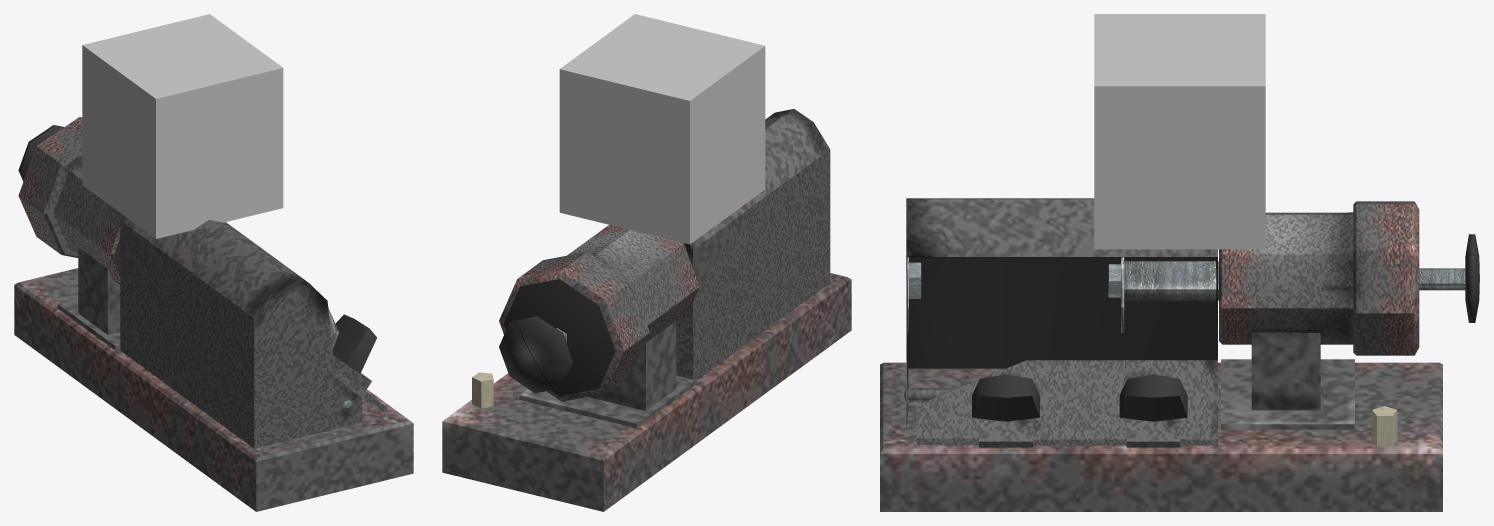
File: machines_keymachine.dae
3 views of the same model, side by side, from view 1: azimuth 30°, elevation 25°; view 2: azimuth 150°, elevation 25°; view 3: azimuth 270°, elevation 25° (orthographic). The views are drawn at different scales.
Visible parts, largest first — view 1: keymachine, _sound_run_machine_keymachine_run; view 2: keymachine, _sound_run_machine_keymachine_run, button; view 3: keymachine, _sound_run_machine_keymachine_run, button.
Boxes of the visible parts, x1,y1,x2,y2 form: keymachine: (14, 117, 413, 511); _sound_run_machine_keymachine_run: (82, 14, 283, 238); keymachine: (442, 109, 851, 511); _sound_run_machine_keymachine_run: (559, 14, 765, 244); button: (472, 372, 493, 408); keymachine: (880, 198, 1479, 511); _sound_run_machine_keymachine_run: (1094, 14, 1265, 249); button: (1372, 406, 1397, 446).
Size of what is drawn, in the model's own units: 0.3134 by 0.5932 by 0.7982.
